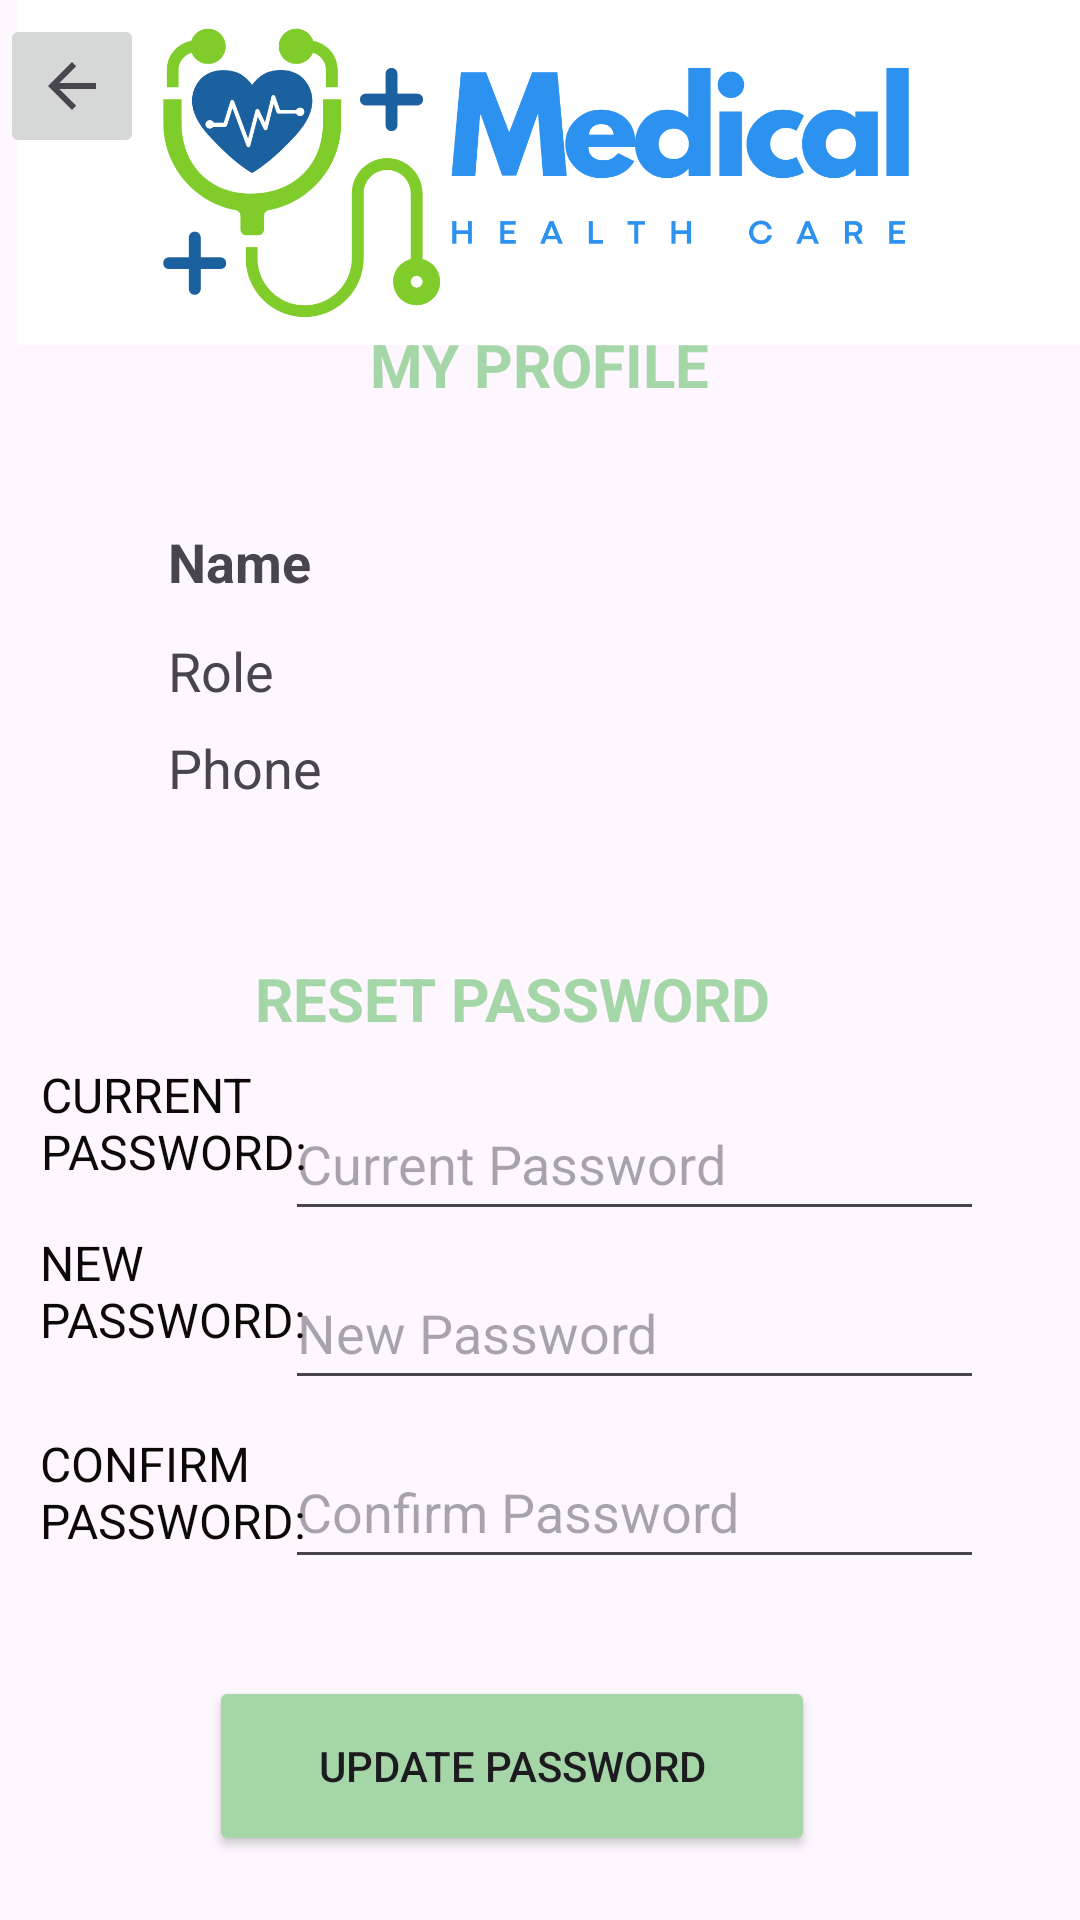

Screen size 1080 x 1920. Icon name, then its center in pixels as point (x, y):
Back Button: point (72, 86)
